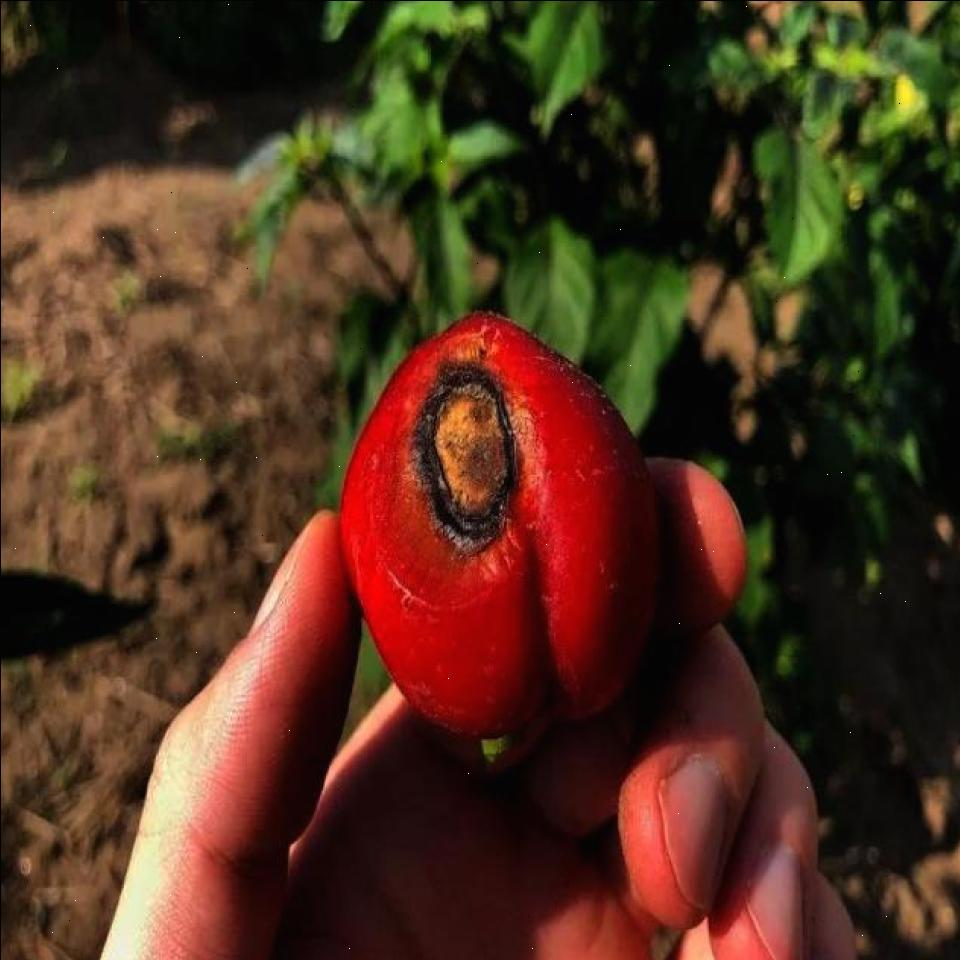Blossom_end_rot: (413, 338, 523, 556)
